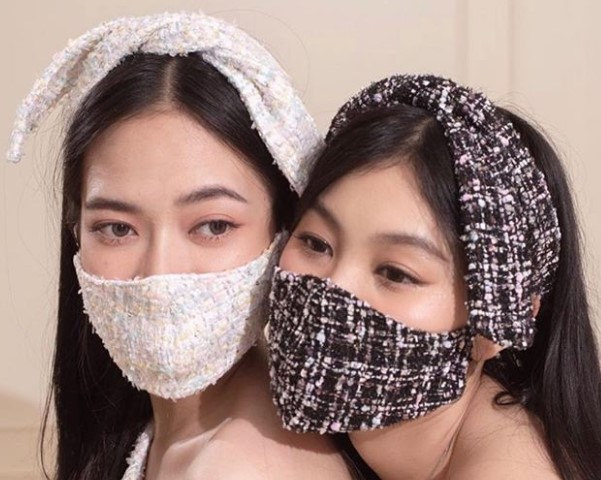face_with_mask: (270, 78, 566, 438), (53, 14, 312, 401)
